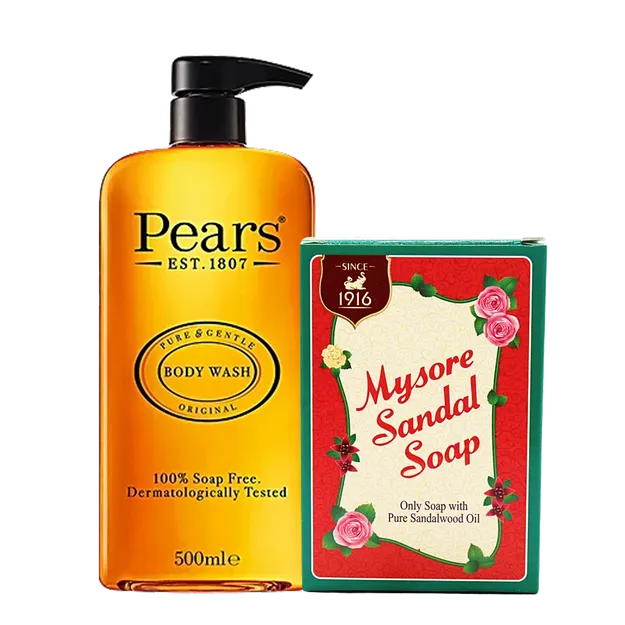Good Day: (31, 31, 594, 594)
